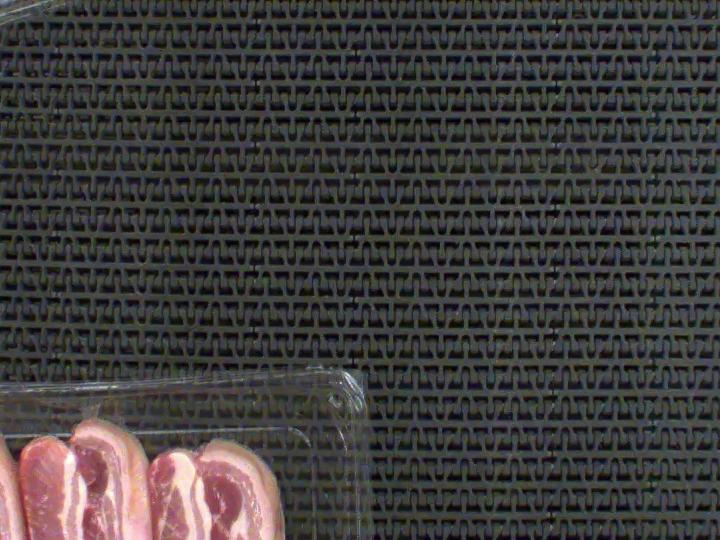packaging-error: (73, 398, 107, 427)
